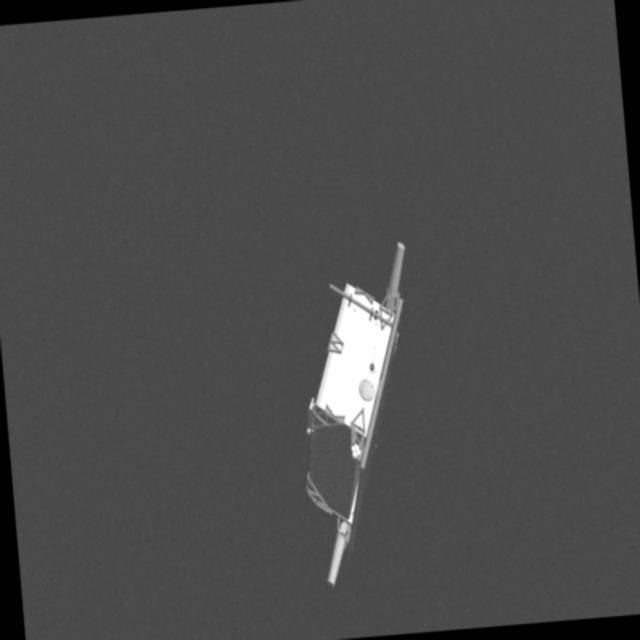satellite: (270, 234, 441, 599)
